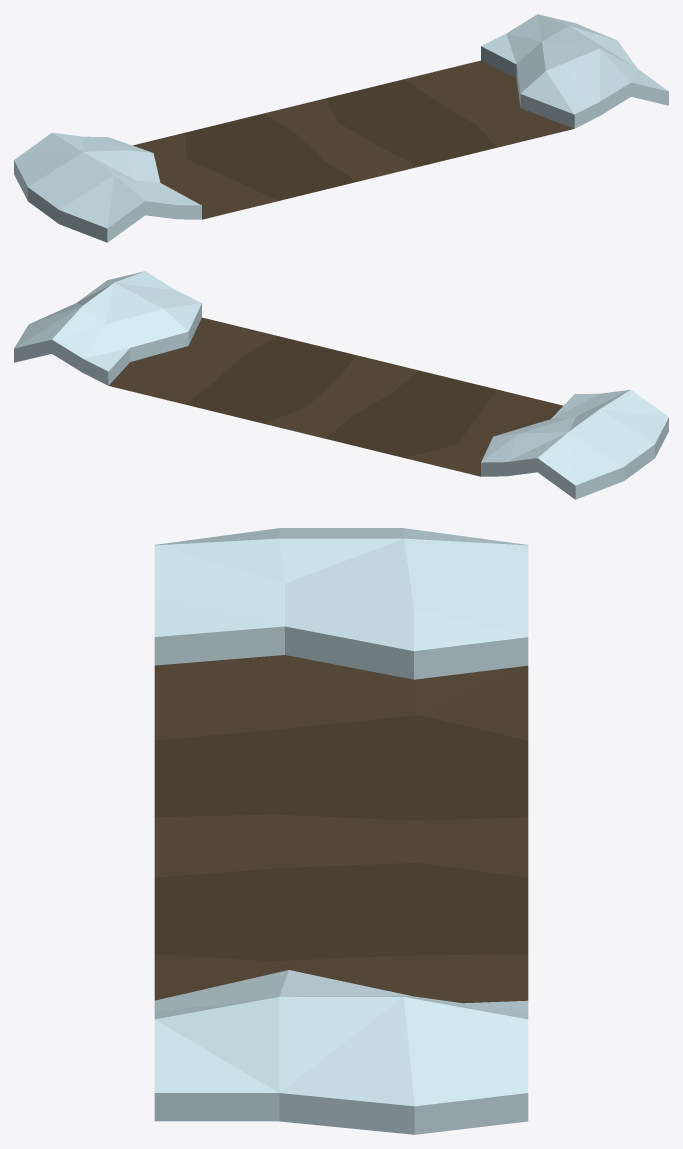
The model's file is SM_Env_Road_Straight_02_Snow.gltf.
The picture shows the model from 3 angles, top to bottom: view 1: azimuth 30°, elevation 25°; view 2: azimuth 150°, elevation 25°; view 3: azimuth 270°, elevation 25°; orthographic projection. The views are drawn at different scales.
Parts seen in each view (by area): view 1: SM_Env_Road_Straight_02_Snow; view 2: SM_Env_Road_Straight_02_Snow; view 3: SM_Env_Road_Straight_02_Snow.
Boxes of the visible parts, x1,y1,x2,y2 form: SM_Env_Road_Straight_02_Snow: [14, 14, 668, 242]; SM_Env_Road_Straight_02_Snow: [14, 271, 668, 499]; SM_Env_Road_Straight_02_Snow: [154, 528, 528, 1134].
Bounding box in the file's own units: 3.66 × 0.2583 × 1.
Materials: 1 (1 with a texture image).
